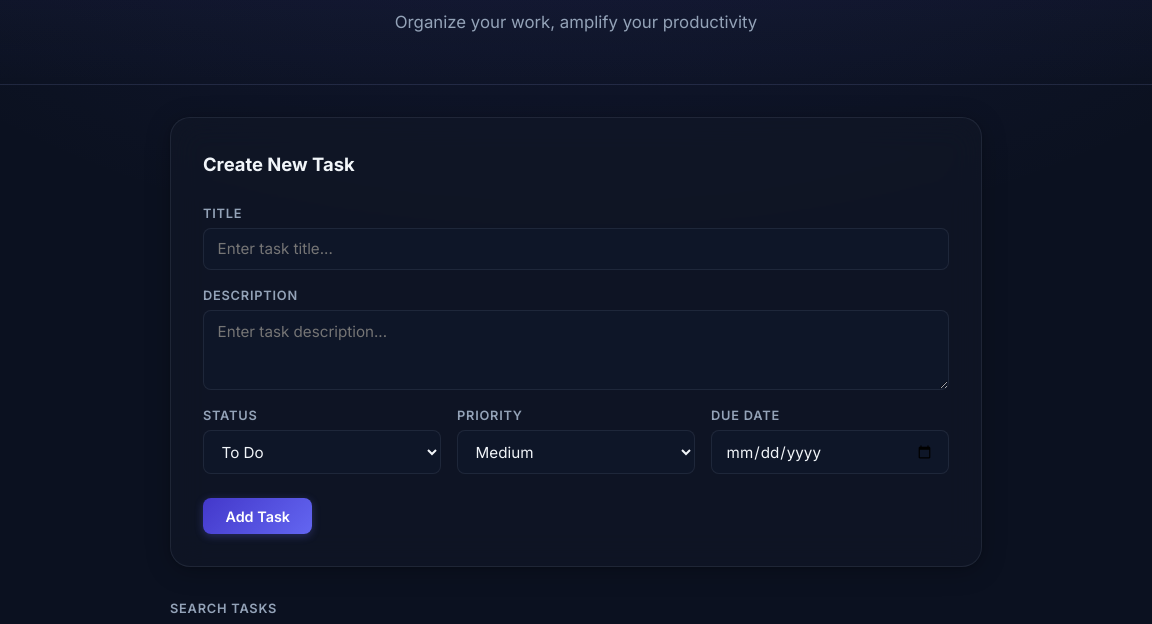
Test case: Dashboard › localStorage persistence › saves tasks to localStorage when a task is created
Type "Persisted Task" into the field labelled "Title" at (576, 249), box [203,228,949,270]
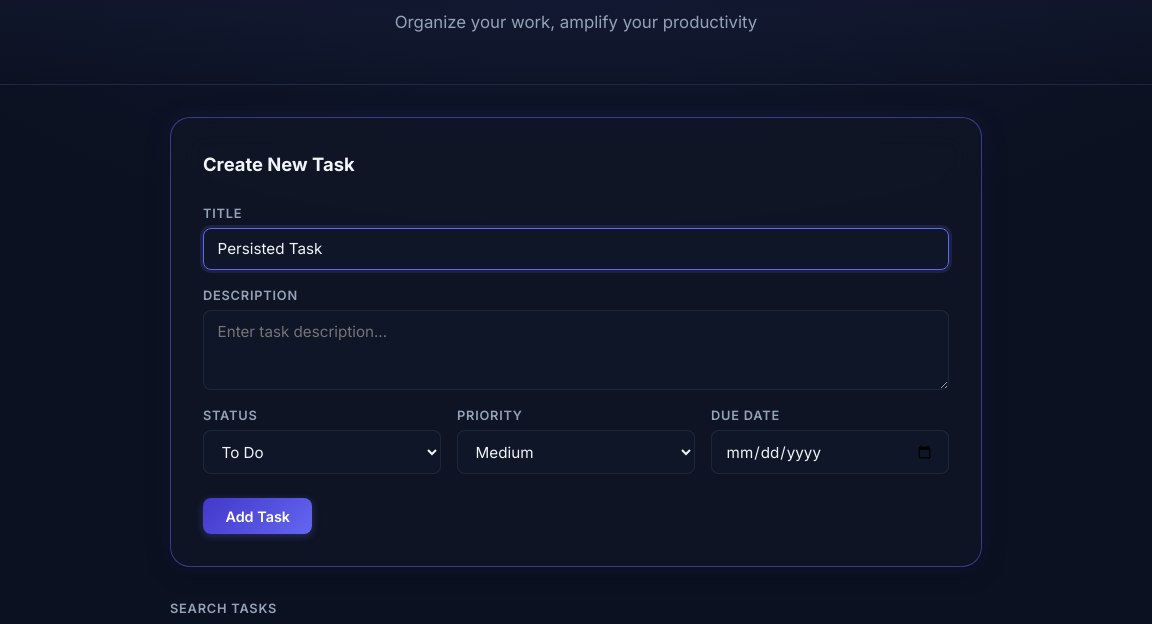
Type "2026-06-10" into the date field labelled "Due Date" at (830, 452), box [711,430,949,474]
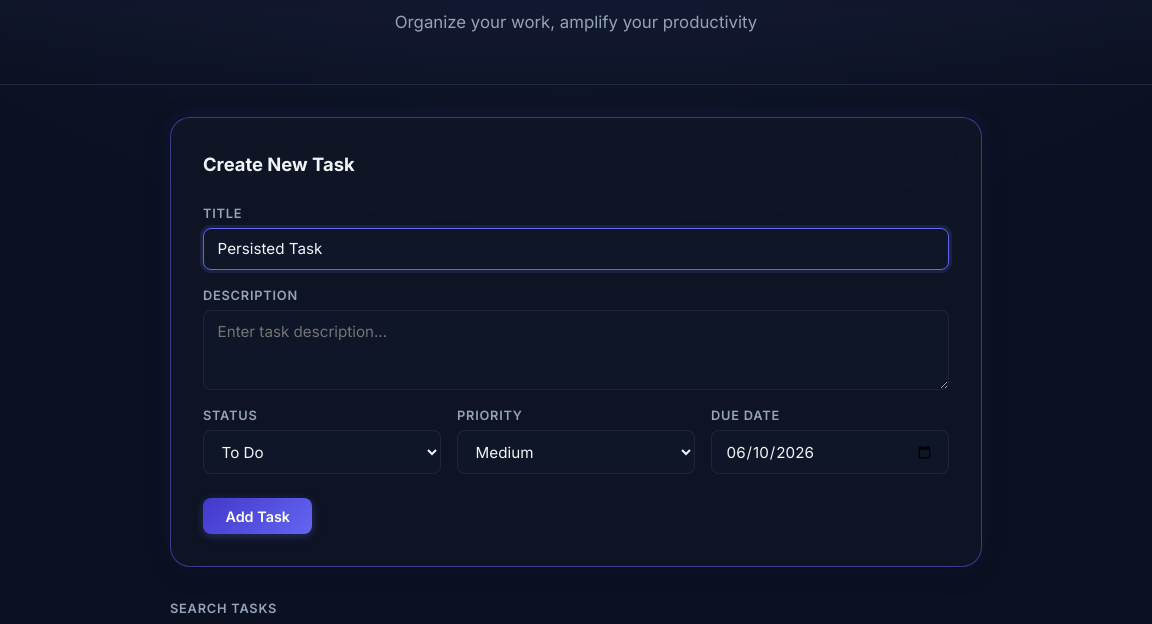
Click the button "Add Task" at (258, 516), box [203,498,312,534]
(page scrolled)
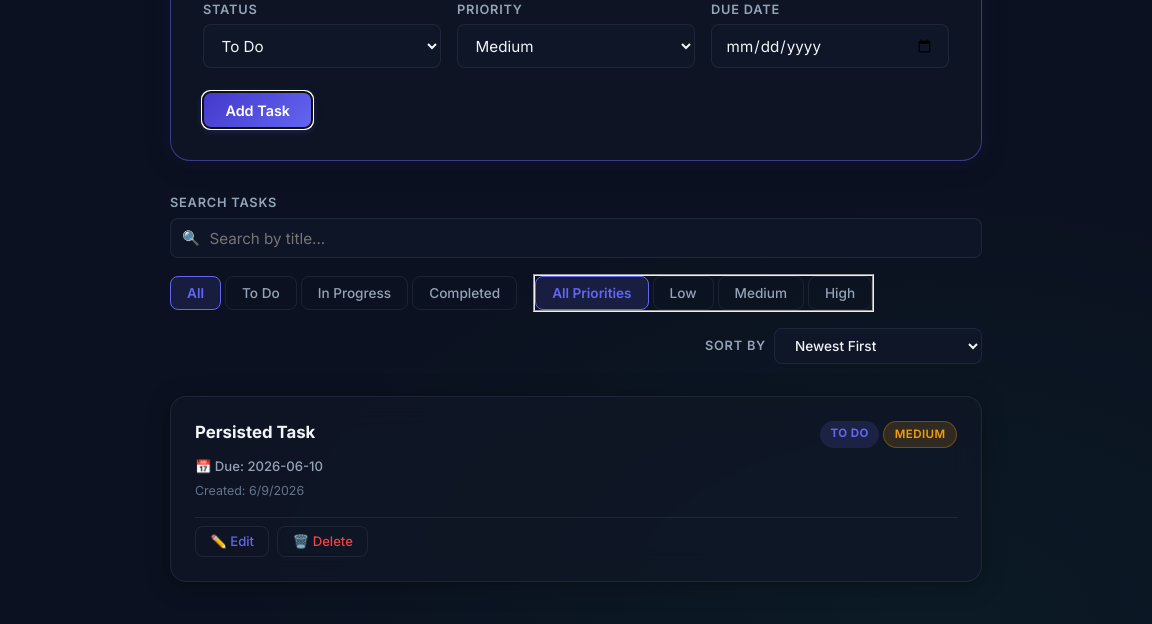
expect the heading "Persisted Task" is shown: met, box [195,421,315,445]
